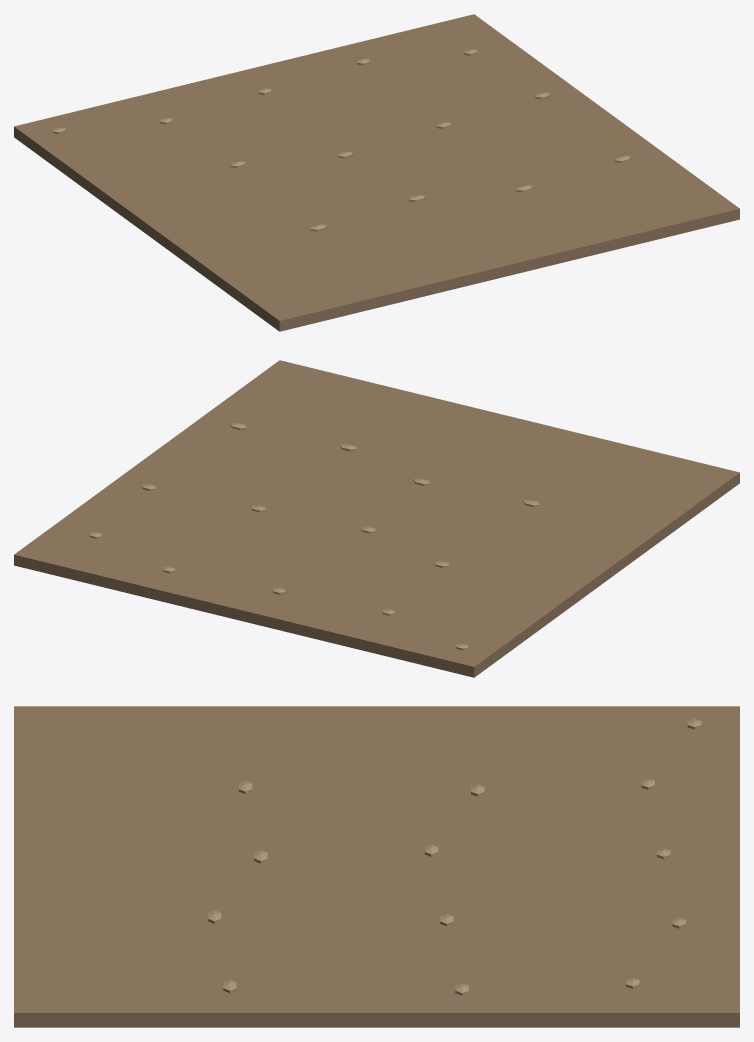
File: soil-tile-8.glb
The picture shows the model from 3 angles, top to bottom: view 1: azimuth 30°, elevation 25°; view 2: azimuth 150°, elevation 25°; view 3: azimuth 270°, elevation 25°; orthographic projection. The views are drawn at different scales.
Parts seen in each view (by area): view 1: soil-tile-8; view 2: soil-tile-8; view 3: soil-tile-8.
Boxes of the visible parts, x1=… form: soil-tile-8: x1=14, y1=14, x2=739, y2=331; soil-tile-8: x1=14, y1=360, x2=739, y2=677; soil-tile-8: x1=14, y1=706, x2=739, y2=1027.
Size of the model in its own units: 8 by 0.23 by 8.
